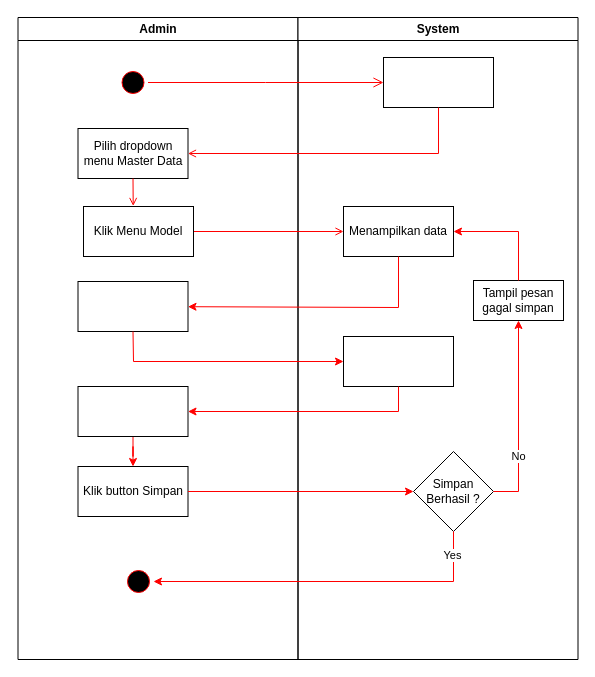
This 595x677 diagram has some shape labels left out. The centre of each missing label's shape, as x and y in pixels:
Klik icon edit: [132,306]
Menampilkan popup Edit Data: [398,361]
Menampilkan Sidebar Menu: [438,82]
Mengubah Data: [132,411]
